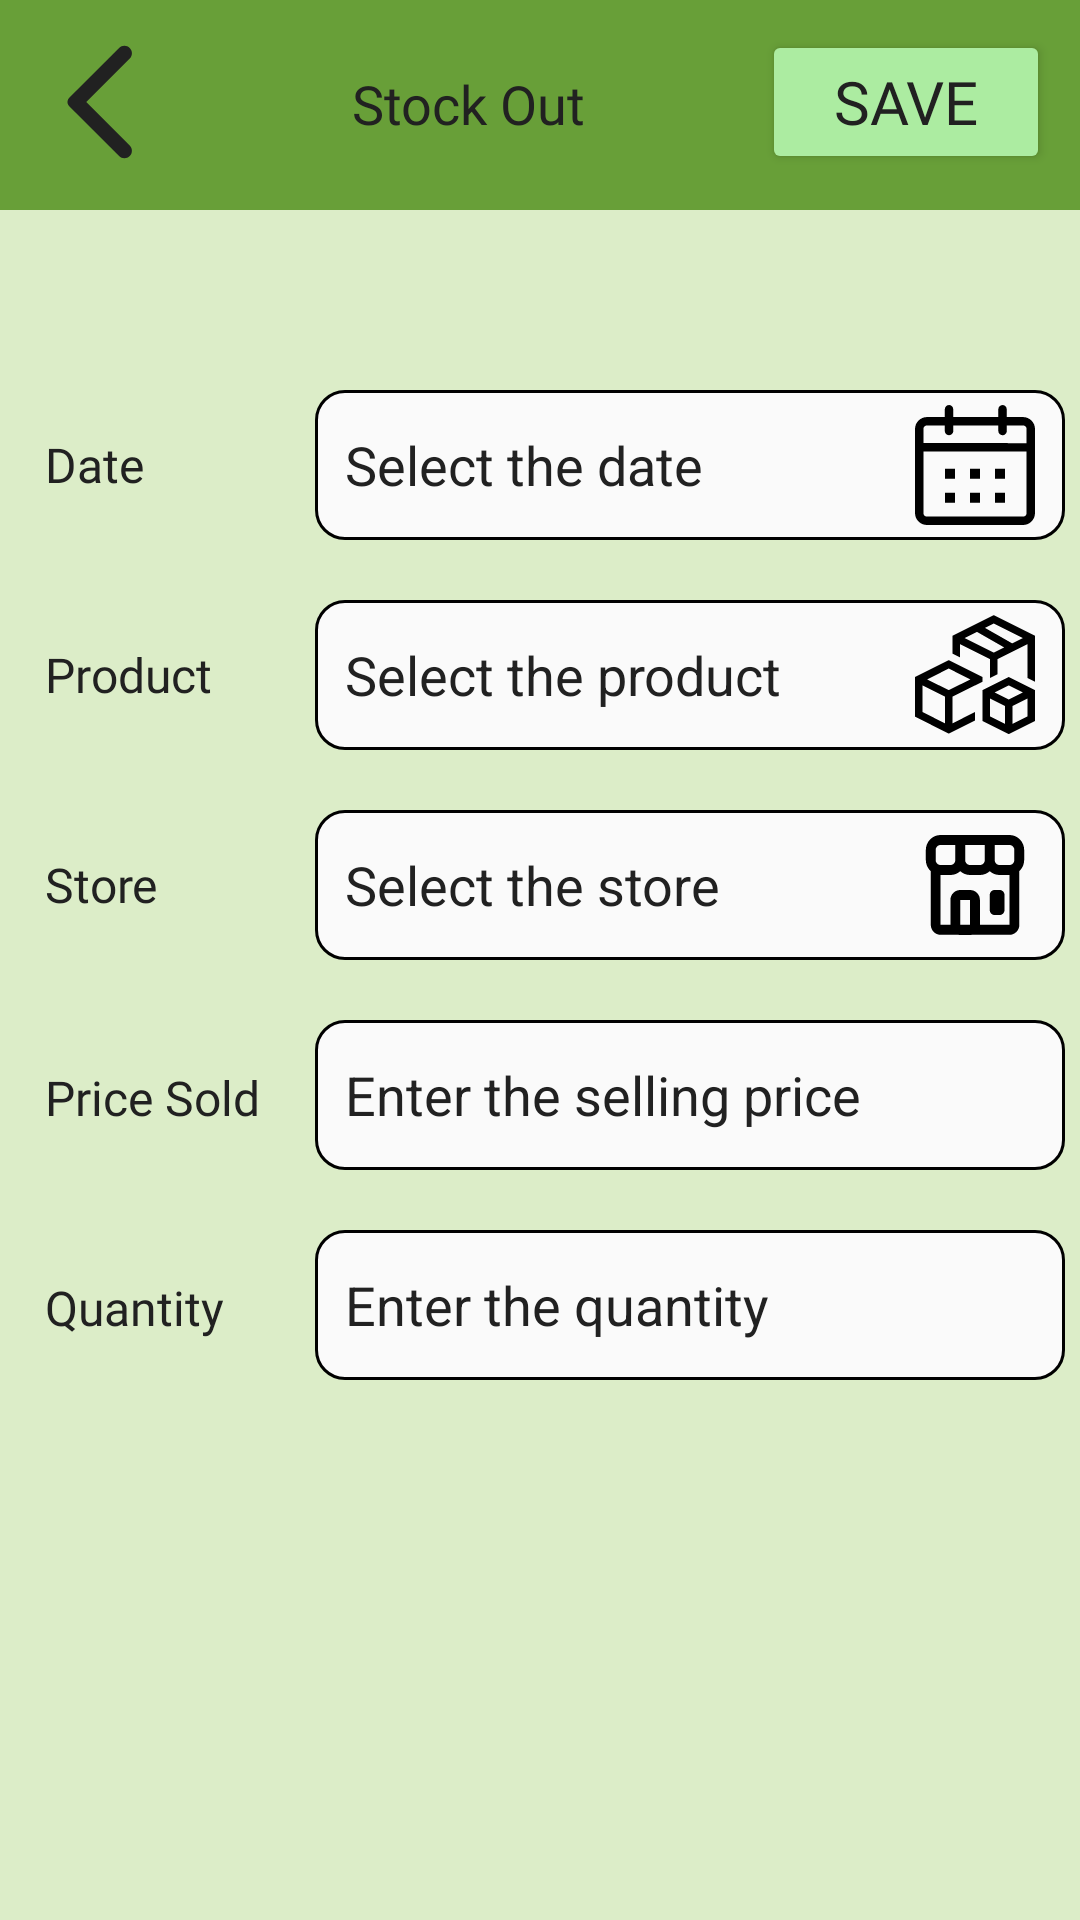

Icons on this 1080 x 1920 Android screen, each with the point to tap as (x,y):
Back: (99,102)
